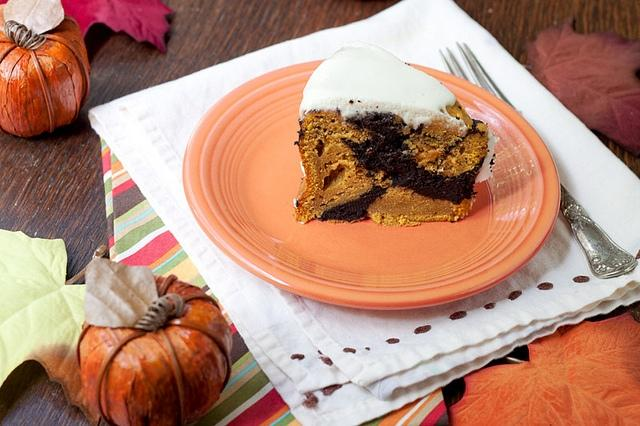pumpkin: (76, 256, 234, 426), (0, 0, 92, 137)
